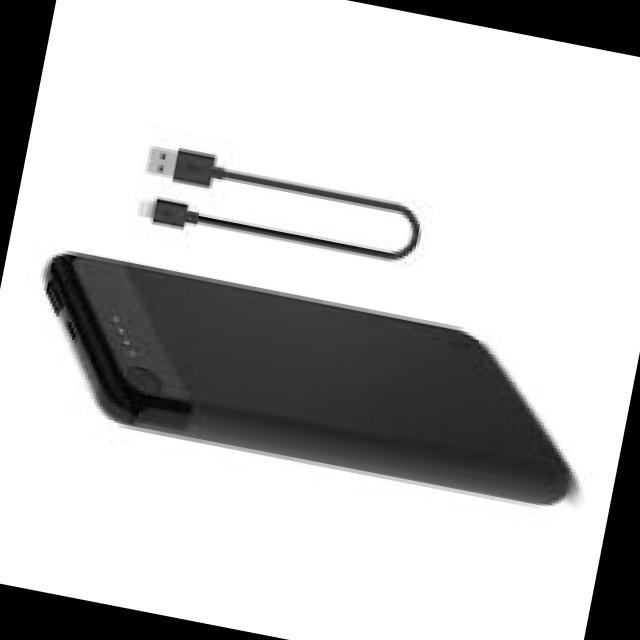portable-charger: (17, 238, 609, 516)
